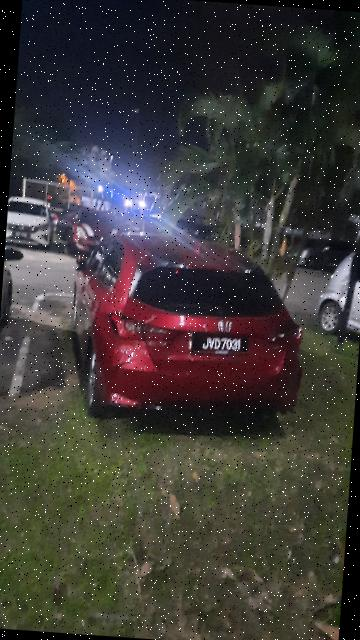License_Plate: (190, 328, 252, 357)
car: (65, 229, 313, 428)
